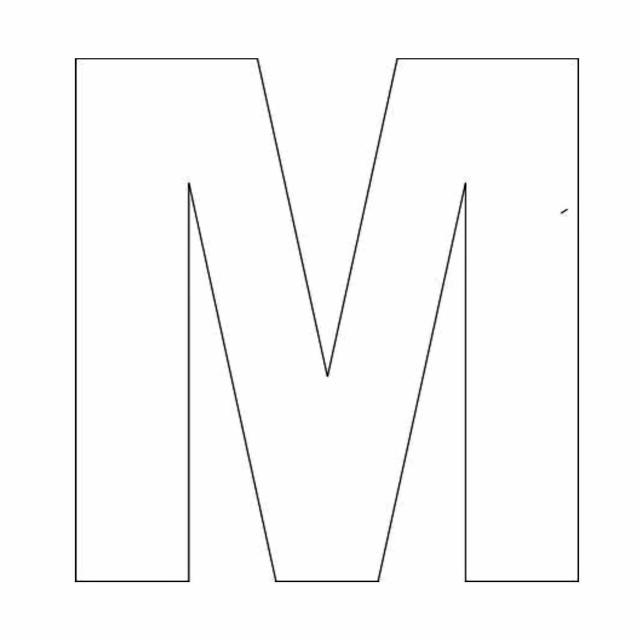M: (44, 32, 599, 594)
